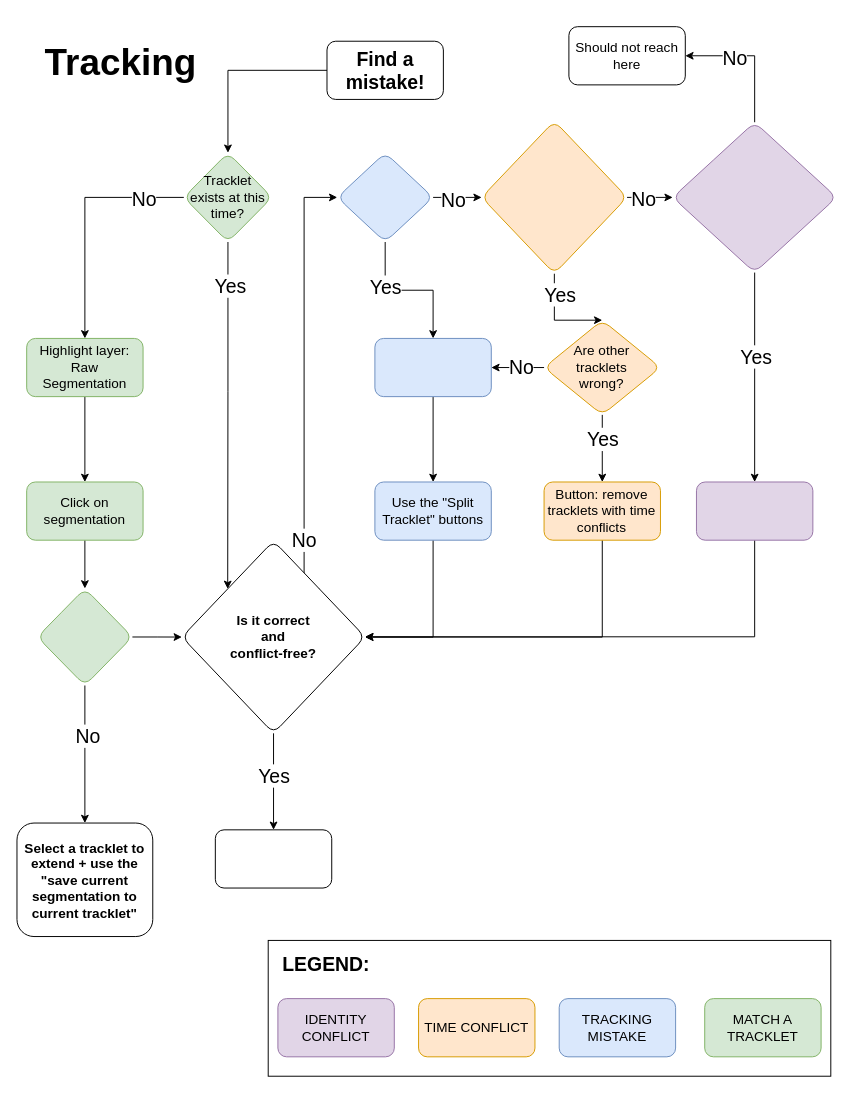
The diagram is 854 pixels wide and 1093 high, and some of its shapes have lost their labels. The shapes that lost their labels are listed below. From the top down, each one's centre as x and y in pixels, then its label:
the point at 384,197: Tracking mistakes?
the point at 554,197: Another tracklet overlapping in time (time conflict)?
the point at 754,197: This tracklet already matched to different neuron (identity conflict)?
the point at 432,367: Find tracking mistakes in selected tracklet
the point at 754,510: Button: remove tracklets with identity conflicts
the point at 84,636: Is a tracklet selected?
the point at 273,858: Button: Save tracklet to current neuron
